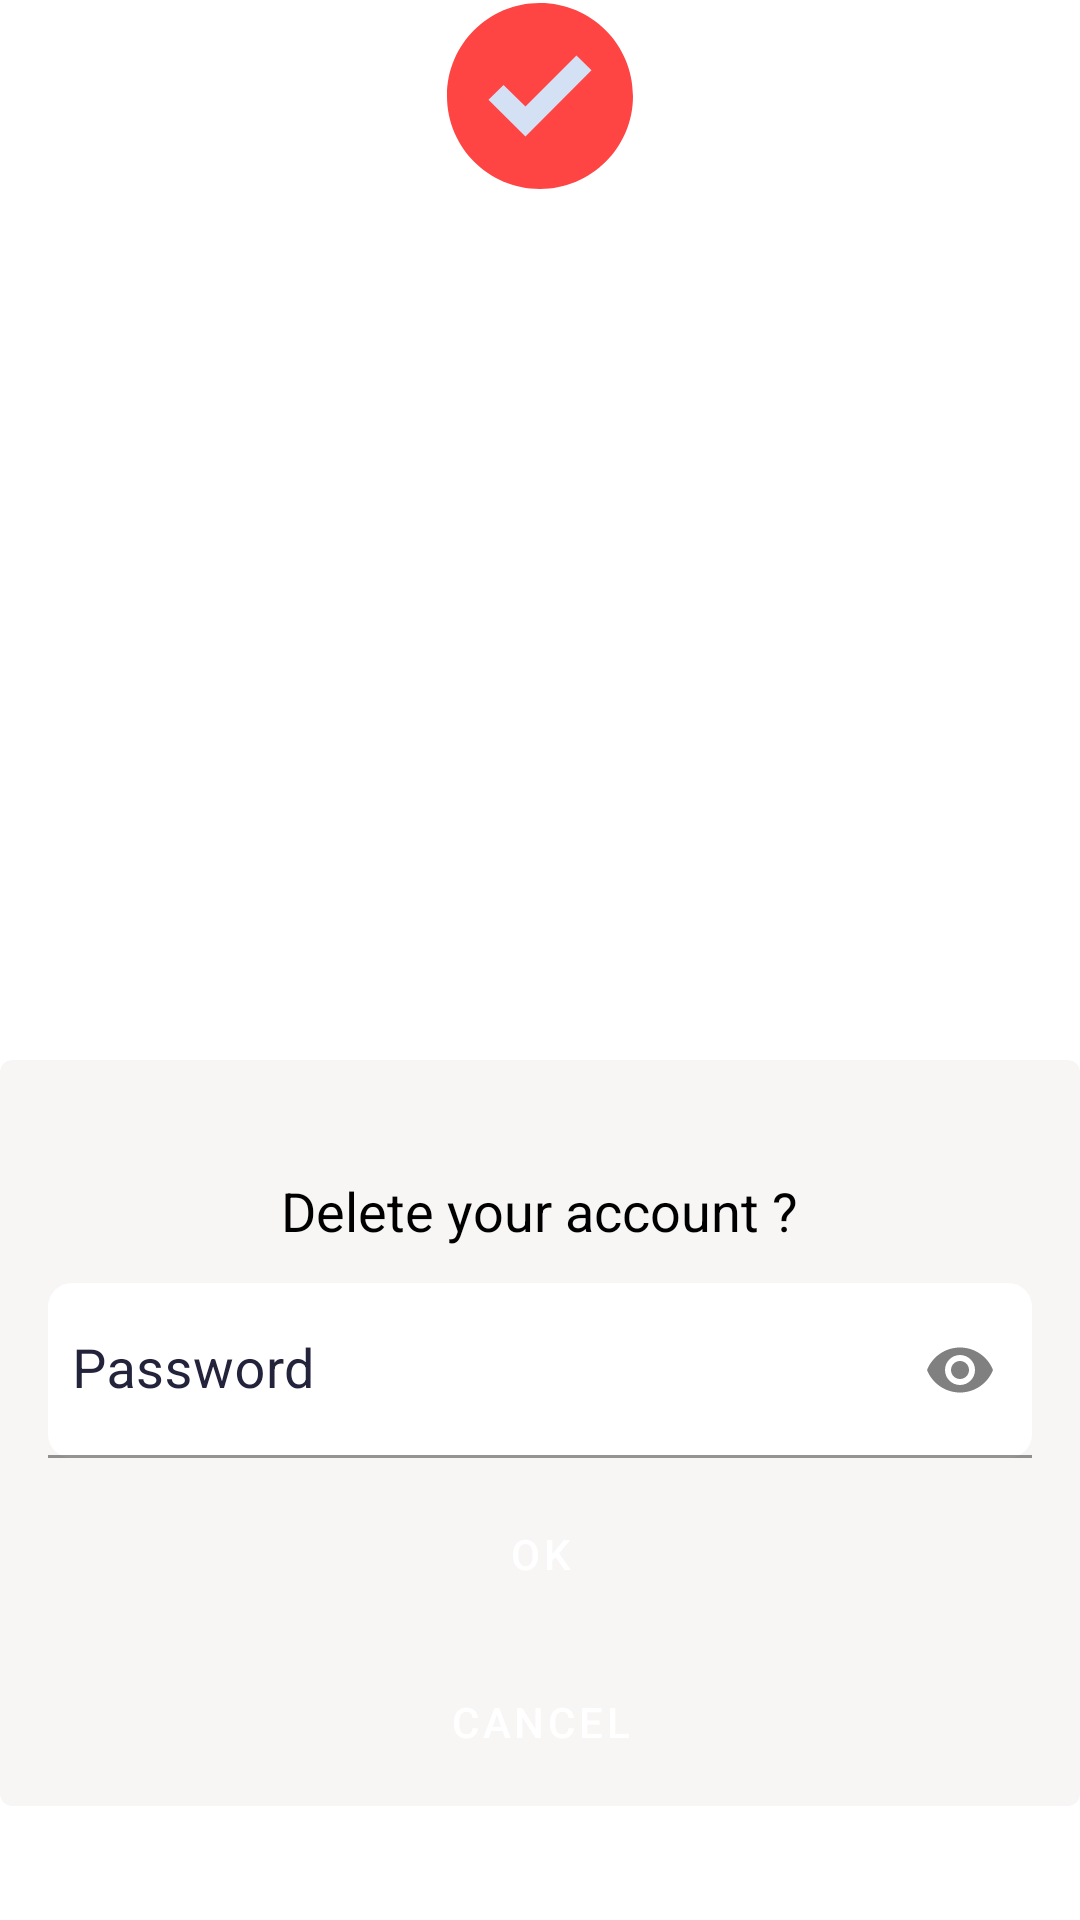

Icons on this 1080 × 1920 Android screen, each with its box as box=[x1, y1, x2, y2]:
check: box=[447, 3, 633, 189]
